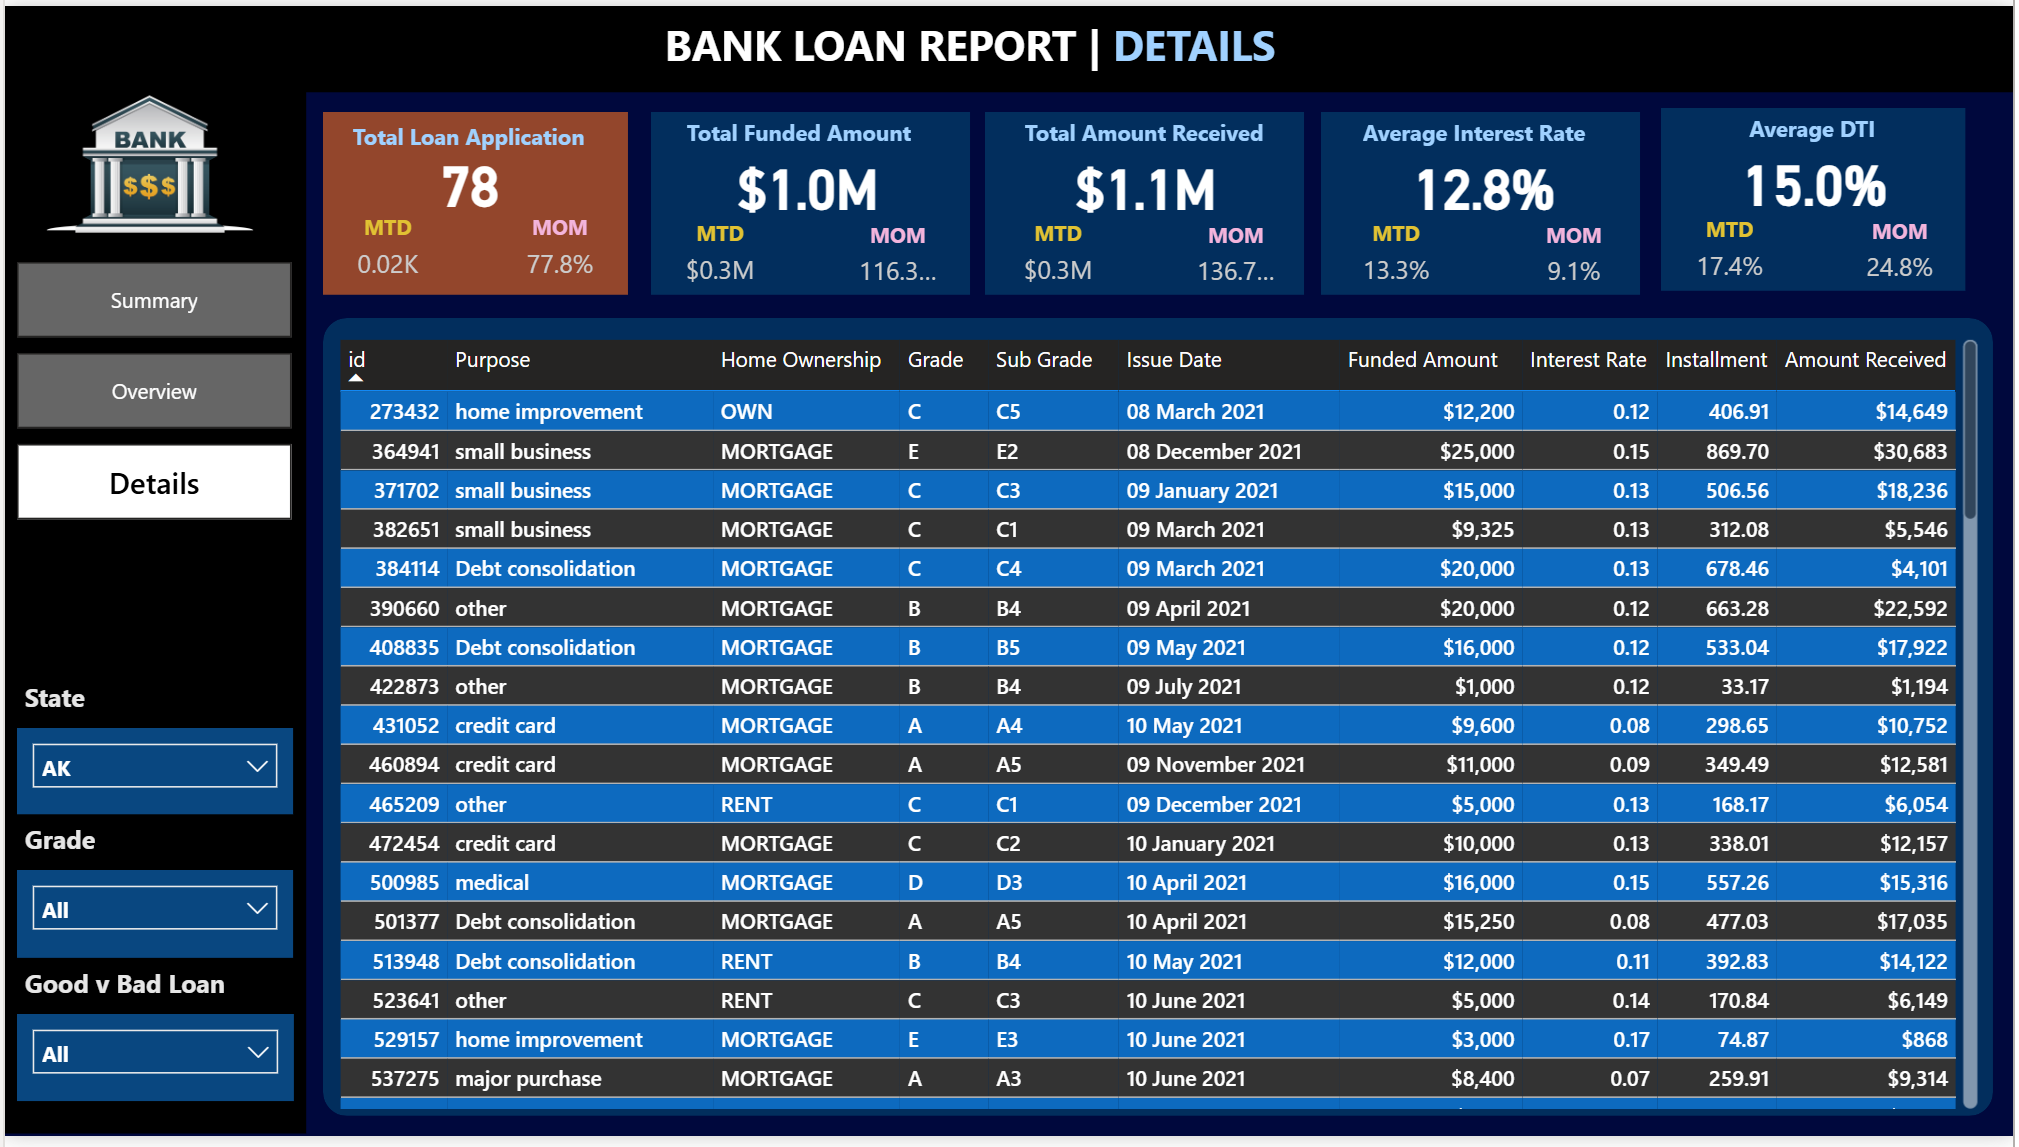

The dashboard page shown, as its layout file describes it:
{"tool":"powerbi","page":{"name":"Details","canvas":[1280,720],"ordinal":2},"visuals":[{"type":"shape","box":[0,0,1280,55],"z":0},{"type":"shape","box":[1054.6,66.1,194.2,116.6],"z":0,"group":"g5"},{"type":"shape","box":[202.1,67.3,194.4,116.6],"z":0,"group":"g1"},{"type":"shape","box":[411.3,67.3,203.4,116.6],"z":0,"group":"g2"},{"type":"shape","box":[839.9,67.3,203.4,116.6],"z":0,"group":"g4"},{"type":"shape","box":[624.4,67.6,203.4,116.6],"z":0,"group":"g3"},{"type":"shape","box":[0,55.3,192,663.9],"z":1000},{"type":"card","fields":{"Values":["bank_loan_data.Total Loan Applications"]},"box":[162.6,81.1,266.2,61.3],"z":1000,"group":"g1"},{"type":"card","fields":{"Values":["bank_loan_data.avg dti"]},"box":[1025.8,82.1,254.2,59.8],"z":1000,"group":"g5"},{"type":"card","fields":{"Values":["bank_loan_data.Total Funded Amount"]},"box":[378.4,83.6,266.2,59.8],"z":1000,"group":"g2"},{"type":"card","fields":{"Values":["bank_loan_data.Total Amount Received"]},"box":[594.2,83.6,266.2,59.8],"z":1000,"group":"g3"},{"type":"card","fields":{"Values":["bank_loan_data.avg interest rate"]},"box":[810,83.6,266.2,59.8],"z":1000,"group":"g4"},{"type":"textbox","box":[415.7,1.5,448.6,53.8],"z":2000},{"type":"textbox","box":[1074.9,64.3,161.4,48.1],"z":2000,"group":"g5"},{"type":"textbox","box":[429.8,65.8,169,48.1],"z":2000,"group":"g2"},{"type":"textbox","box":[645.6,65.8,169,48.1],"z":2000,"group":"g3"},{"type":"textbox","box":[861.4,65.8,169,48.1],"z":2000,"group":"g4"},{"type":"textbox","box":[215.5,68.8,177.9,52.3],"z":2000,"group":"g1"},{"type":"group","id":"g1","title":"Group 1","box":[162.6,67.3,266.2,116.6],"z":3000},{"type":"card","title":"MTD","fields":{"Values":["bank_loan_data.MTD Loan Applications"]},"box":[214,131.6,59.8,52.3],"z":3000,"group":"g1"},{"type":"card","title":"MTD","fields":{"Values":["bank_loan_data.MTD avg dti"]},"box":[1065.8,133.1,67.1,52.3],"z":3000,"group":"g5"},{"type":"card","title":"MTD","fields":{"Values":["bank_loan_data.MTD Funded Amount"]},"box":[420.3,134.6,70.3,52.3],"z":3000,"group":"g2"},{"type":"card","title":"MTD","fields":{"Values":["bank_loan_data.MTD Total Amount Received"]},"box":[636.1,134.6,70.3,52.3],"z":3000,"group":"g3"},{"type":"card","title":"MTD","fields":{"Values":["bank_loan_data.MTD avg interest rate"]},"box":[851.9,134.6,70.3,52.3],"z":3000,"group":"g4"},{"type":"group","id":"g2","title":"Group 1","box":[378.4,65.8,266.2,121.1],"z":4000},{"type":"card","title":"MOM","fields":{"Values":["bank_loan_data.MOM Loan Applications"]},"box":[323.2,131.6,59.8,52.3],"z":4000,"group":"g1"},{"type":"card","title":"MOM","fields":{"Values":["bank_loan_data.MOM avg dti"]},"box":[1178.6,134.6,57.1,50.8],"z":4000,"group":"g5"},{"type":"card","title":"MOM","fields":{"Values":["bank_loan_data.MOM Funded Amount"]},"box":[538.4,136.1,59.8,50.8],"z":4000,"group":"g2"},{"type":"card","title":"MOM","fields":{"Values":["bank_loan_data.MOM received amount"]},"box":[754.2,136.1,59.8,50.8],"z":4000,"group":"g3"},{"type":"card","title":"MOM","fields":{"Values":["bank_loan_data.MOM avg interest rate"]},"box":[970,136.1,59.8,50.8],"z":4000,"group":"g4"},{"type":"group","id":"g3","title":"Group 1","box":[594.2,65.8,266.2,121.1],"z":5000},{"type":"group","id":"g4","title":"Group 1","box":[810,65.8,266.2,121.1],"z":6000},{"type":"group","id":"g5","title":"Group 1","box":[1025.8,64.3,254.2,121.1],"z":7000},{"type":"slicer","fields":{"Values":["bank_loan_data.address_state"]},"box":[7.8,460.6,175.9,54.8],"z":8000},{"type":"textbox","box":[7.8,424.9,88,38.2],"z":9000},{"type":"slicer","fields":{"Values":["bank_loan_data.grade"]},"box":[7.8,551.1,175.9,56.1],"z":10000},{"type":"textbox","box":[7.8,515.4,71.4,38.2],"z":11000},{"type":"slicer","fields":{"Values":["bank_loan_data.Good vs Bad Loan"]},"box":[7.6,642.8,176.4,55.3],"z":12000},{"type":"textbox","box":[7.8,607.2,155.5,35.7],"z":13000},{"type":"textbox","box":[6.5,339.4,133.9,37],"z":14000},{"type":"shape","box":[202.7,198.9,1064.5,508.7],"z":15000},{"type":"tableEx","fields":{"Values":["bank_loan_data.id","bank_loan_data.purpose","bank_loan_data.home_ownership","bank_loan_data.grade","bank_loan_data.sub_grade","bank_loan_data.issue_date","bank_loan_data.Total Funded Amount","Sum(bank_loan_data.int_rate)","Sum(bank_loan_data.installment)","bank_loan_data.Total Amount Received"]},"box":[207.8,207.8,1054.3,499.8],"z":16000},{"type":"image","box":[21.7,14,141.5,173.4],"z":17000},{"type":"pageNavigator","box":[7.6,163.2,175.9,164.5],"z":18000}]}

Visuals, with their boxes in screenshot pixels (x1, y1, x2, y2), scaled from the page's 1280x720 canvas onto the 2019x1147 screenshot:
shape: box(0, 0, 2018, 88)
shape: box(1663, 105, 1970, 291)
shape: box(319, 107, 625, 293)
shape: box(649, 107, 970, 293)
shape: box(1325, 107, 1646, 293)
shape: box(985, 108, 1306, 293)
shape: box(0, 88, 303, 1146)
card - bank_loan_data.Total Loan Applications: box(256, 129, 676, 227)
card - bank_loan_data.avg dti: box(1618, 131, 2018, 226)
card - bank_loan_data.Total Funded Amount: box(597, 133, 1017, 228)
card - bank_loan_data.Total Amount Received: box(937, 133, 1357, 228)
card - bank_loan_data.avg interest rate: box(1278, 133, 1698, 228)
textbox: box(656, 2, 1363, 88)
textbox: box(1695, 102, 1950, 179)
textbox: box(678, 105, 945, 181)
textbox: box(1018, 105, 1285, 181)
textbox: box(1359, 105, 1625, 181)
textbox: box(340, 110, 621, 193)
"Group 1" group: box(256, 107, 676, 293)
"MTD" card: box(338, 210, 432, 293)
"MTD" card: box(1681, 212, 1787, 295)
"MTD" card: box(663, 214, 774, 298)
"MTD" card: box(1003, 214, 1114, 298)
"MTD" card: box(1344, 214, 1455, 298)
"Group 1" group: box(597, 105, 1017, 298)
"MOM" card: box(510, 210, 604, 293)
"MOM" card: box(1859, 214, 1949, 295)
"MOM" card: box(849, 217, 944, 298)
"MOM" card: box(1190, 217, 1284, 298)
"MOM" card: box(1530, 217, 1624, 298)
"Group 1" group: box(937, 105, 1357, 298)
"Group 1" group: box(1278, 105, 1698, 298)
"Group 1" group: box(1618, 102, 2018, 295)
slicer - bank_loan_data.address_state: box(12, 734, 290, 821)
textbox: box(12, 677, 151, 738)
slicer - bank_loan_data.grade: box(12, 878, 290, 967)
textbox: box(12, 821, 125, 882)
slicer - bank_loan_data.Good vs Bad Loan: box(12, 1024, 290, 1112)
textbox: box(12, 967, 258, 1024)
textbox: box(10, 541, 221, 600)
shape: box(320, 317, 1999, 1127)
tableEx - bank_loan_data.id x bank_loan_data.purpose: box(328, 331, 1991, 1127)
image: box(34, 22, 257, 299)
pageNavigator: box(12, 260, 289, 522)
